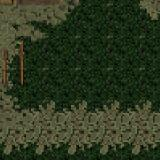Interaction: (0, 50, 31, 91)
Obstacle: (0, 0, 85, 59)
